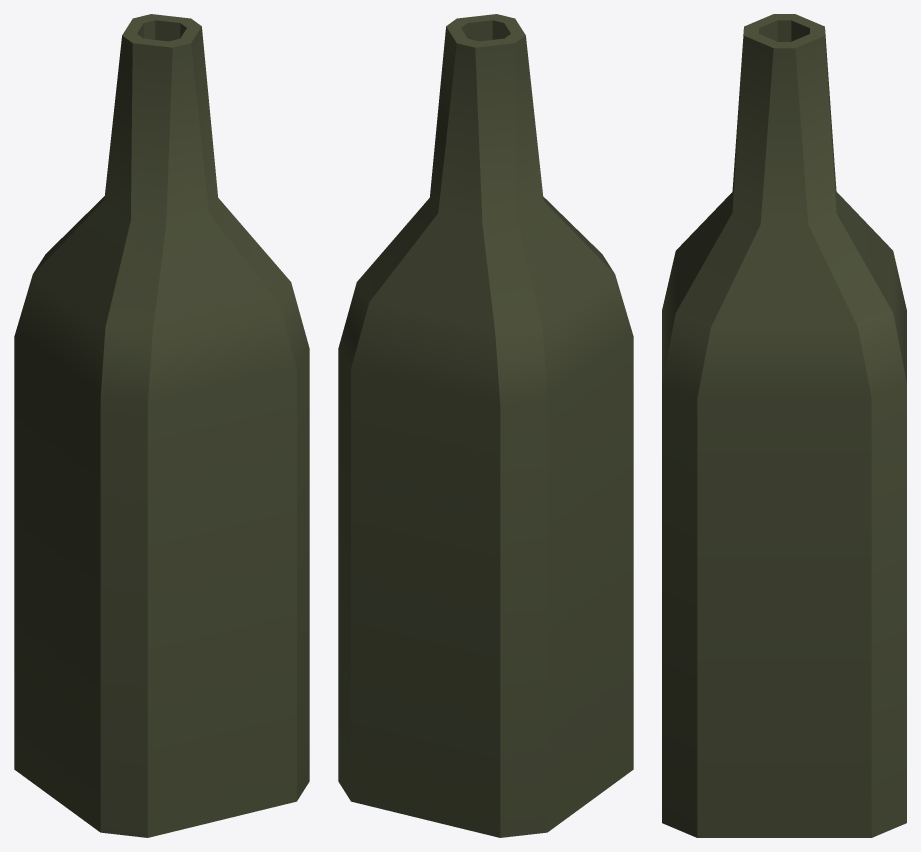
Rendered from Bouteille_De_Vin.fbx.
The picture shows the model from 3 angles, left to right: view 1: azimuth 30°, elevation 25°; view 2: azimuth 150°, elevation 25°; view 3: azimuth 270°, elevation 25°; orthographic projection.
Parts seen in each view (by area): view 1: Bouteille_De_Vin; view 2: Bouteille_De_Vin; view 3: Bouteille_De_Vin.
Boxes of the visible parts, x1,y1,x2,y2 form: Bouteille_De_Vin: (14, 14, 309, 837); Bouteille_De_Vin: (338, 14, 633, 837); Bouteille_De_Vin: (662, 14, 906, 837).
Bounding box in the file's own units: 9.24 × 31.45 × 9.24.
1 material, 1 textured.
